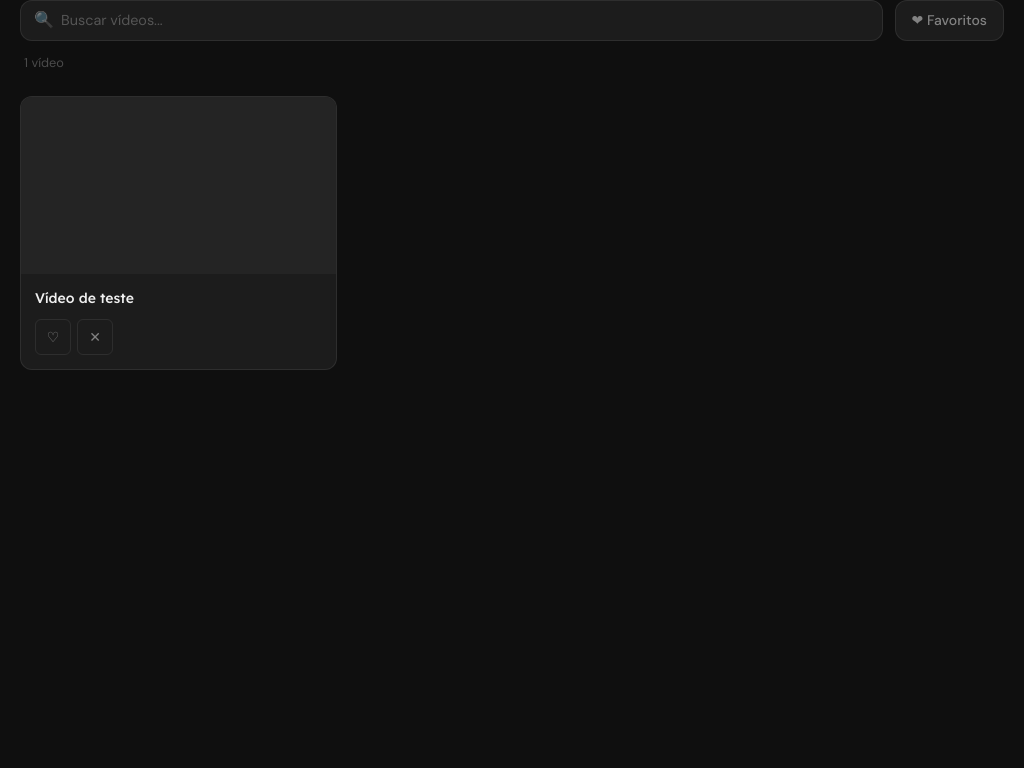
Test: VideoList - favoritos e exclusão › abrir vídeo com URL inválida mostra mensagem de erro
Click the button with aria-label "assistir".
click(179, 233)  # box [20,96,337,370]
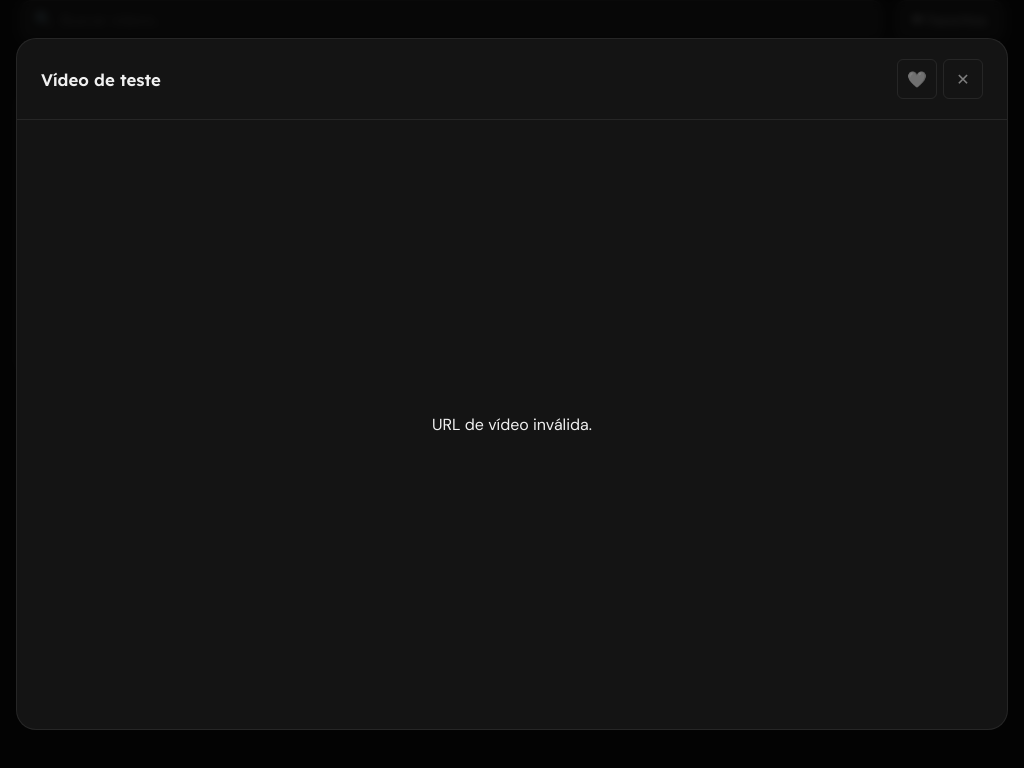
Expected: the text "URL de vídeo inválida." is shown, [432,412,592,436]
